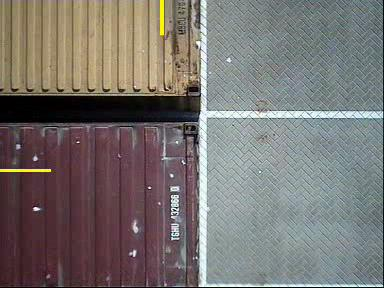groundmarker_2: (198, 161, 244, 224), (197, 1, 237, 41)
